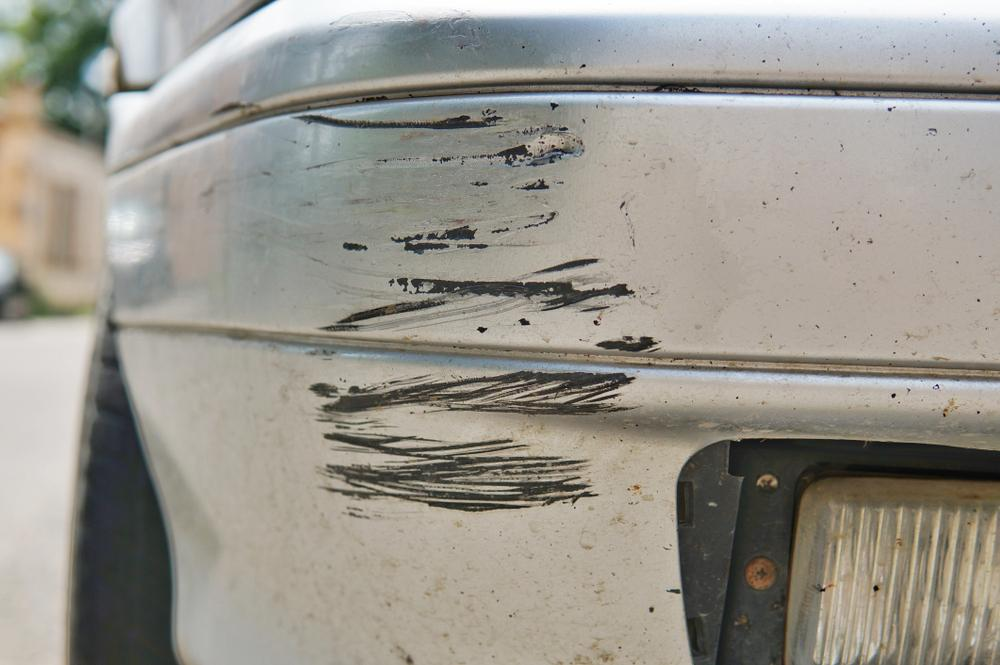scratch: (292, 97, 670, 529)
